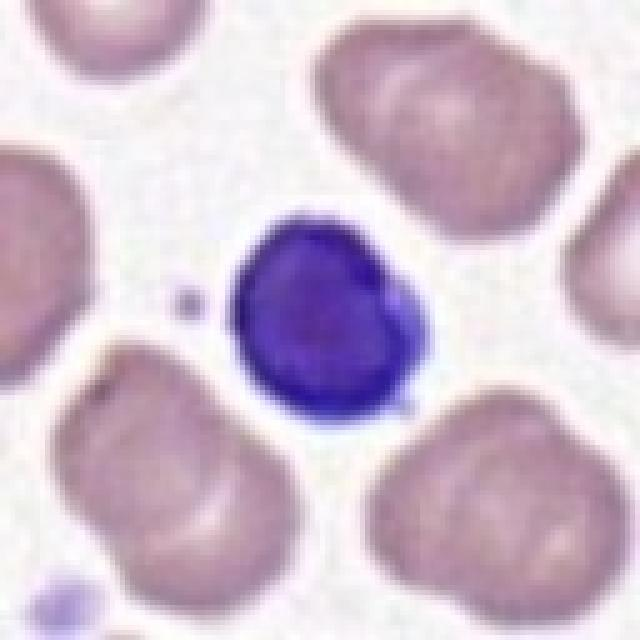lympho: (226, 206, 440, 428)
